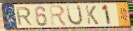1: (102, 4, 113, 26)
6: (34, 5, 48, 27)
K: (84, 5, 100, 26)
R: (49, 5, 69, 27), (15, 7, 33, 27)
U: (66, 5, 84, 27)
